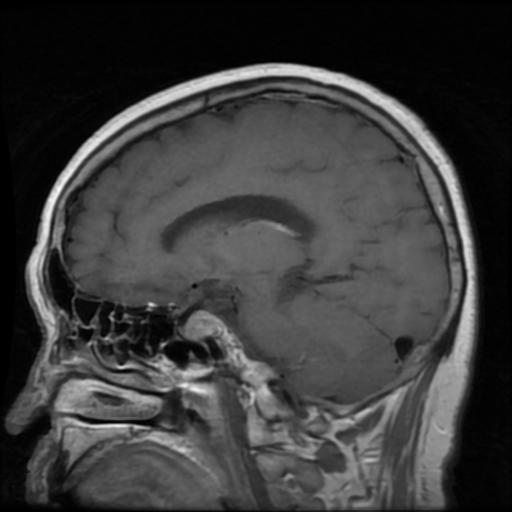Pituirity_tumour: (183, 308, 222, 341)
